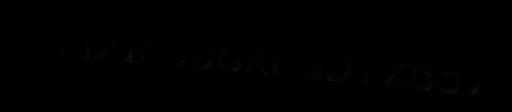letter: (268, 32, 296, 82), (324, 40, 354, 86), (434, 51, 464, 95), (464, 51, 492, 96), (216, 31, 244, 75), (242, 33, 270, 77), (298, 40, 326, 84), (380, 46, 408, 89), (407, 49, 435, 92), (190, 28, 216, 73), (82, 20, 110, 61), (29, 14, 55, 57), (56, 16, 82, 59), (136, 23, 162, 66), (163, 26, 189, 67), (110, 23, 136, 63), (356, 45, 374, 88)
